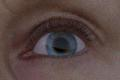eye: (45, 31, 77, 56)
